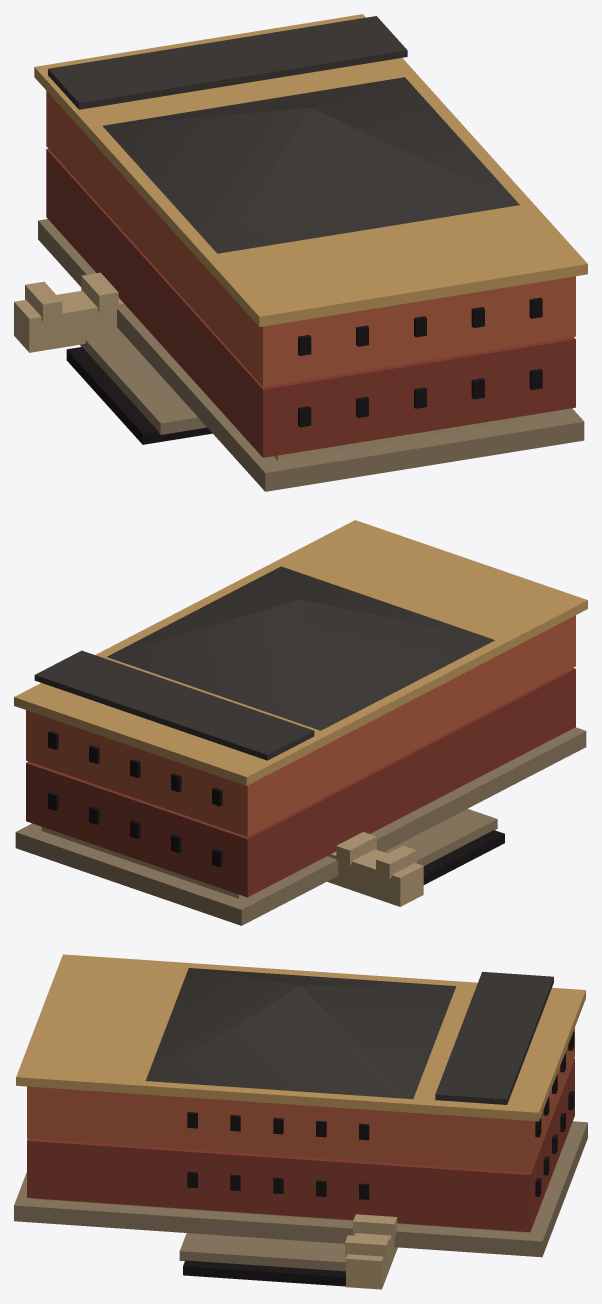
The picture shows the model from 3 angles, top to bottom: view 1: azimuth 30°, elevation 25°; view 2: azimuth 150°, elevation 25°; view 3: azimuth 270°, elevation 25°; orthographic projection. The views are drawn at different scales.
Parts seen in each view (by area): view 1: TownEast_SingleHipRoof, TownEast_Eave_Band, TownEast_LowerStory, TownEast_UpperStory, TownEast_12m_CityPlatform, TownEast_Roof_Ridge, CityWall_Platform, Eastern_Approach_Wall, CityWall_ShadowBase, TownEast_Platform_Coping, Approach_Crenel_-7.2, Approach_Crenel_-5.4; view 2: TownEast_LowerStory, TownEast_SingleHipRoof, TownEast_Eave_Band, TownEast_UpperStory, TownEast_12m_CityPlatform, TownEast_Roof_Ridge, Eastern_Approach_Wall, CityWall_Platform, CityWall_ShadowBase, TownEast_Platform_Coping, Approach_Crenel_-7.2, Approach_Crenel_-5.4; view 3: TownEast_Eave_Band, TownEast_LowerStory, TownEast_SingleHipRoof, TownEast_UpperStory, TownEast_12m_CityPlatform, TownEast_Roof_Ridge, CityWall_Platform, CityWall_ShadowBase, Eastern_Approach_Wall, Approach_Crenel_5.3999999999999995, Approach_Crenel_7.199999999999999, TownEast_Platform_Coping.
Boxes of the visible parts, left/top/right/bottom form: TownEast_SingleHipRoof: left=102, top=77, right=519, bottom=253; TownEast_Eave_Band: left=34, top=14, right=587, bottom=326; TownEast_LowerStory: left=46, top=148, right=575, bottom=457; TownEast_UpperStory: left=46, top=91, right=575, bottom=386; TownEast_12m_CityPlatform: left=38, top=219, right=584, bottom=491; TownEast_Roof_Ridge: left=48, top=16, right=407, bottom=109; CityWall_Platform: left=80, top=334, right=206, bottom=434; Eastern_Approach_Wall: left=14, top=290, right=126, bottom=352; CityWall_ShadowBase: left=66, top=347, right=212, bottom=444; TownEast_Platform_Coping: left=274, top=411, right=556, bottom=460; Approach_Crenel_-7.2: left=25, top=281, right=62, bottom=321; Approach_Crenel_-5.4: left=81, top=272, right=118, bottom=312; TownEast_LowerStory: left=26, top=668, right=575, bottom=897; TownEast_SingleHipRoof: left=107, top=566, right=494, bottom=730; TownEast_Eave_Band: left=14, top=520, right=587, bottom=785; TownEast_UpperStory: left=26, top=615, right=575, bottom=836; TownEast_12m_CityPlatform: left=15, top=727, right=586, bottom=925; TownEast_Roof_Ridge: left=34, top=650, right=314, bottom=760; Eastern_Approach_Wall: left=327, top=849, right=423, bottom=906; CityWall_Platform: left=384, top=808, right=497, bottom=865; CityWall_ShadowBase: left=423, top=830, right=504, bottom=884; TownEast_Platform_Coping: left=41, top=827, right=243, bottom=898; Approach_Crenel_-7.2: left=376, top=845, right=416, bottom=878; Approach_Crenel_-5.4: left=336, top=832, right=376, bottom=864; TownEast_Eave_Band: left=16, top=954, right=585, bottom=1121; TownEast_LowerStory: left=27, top=1058, right=574, bottom=1232; TownEast_SingleHipRoof: left=145, top=968, right=456, bottom=1099; TownEast_UpperStory: left=27, top=1028, right=574, bottom=1172; TownEast_12m_CityPlatform: left=14, top=1121, right=587, bottom=1257; TownEast_Roof_Ridge: left=435, top=971, right=553, bottom=1104; CityWall_Platform: left=179, top=1233, right=346, bottom=1271; CityWall_ShadowBase: left=183, top=1260, right=345, bottom=1286; Eastern_Approach_Wall: left=346, top=1233, right=397, bottom=1289; Approach_Crenel_5.3999999999999995: left=353, top=1214, right=397, bottom=1238; Approach_Crenel_7.199999999999999: left=345, top=1235, right=389, bottom=1259; TownEast_Platform_Coping: left=35, top=1198, right=527, bottom=1232.
Bounding box in the file's own units: 15.81 × 8.62 × 20.48.
